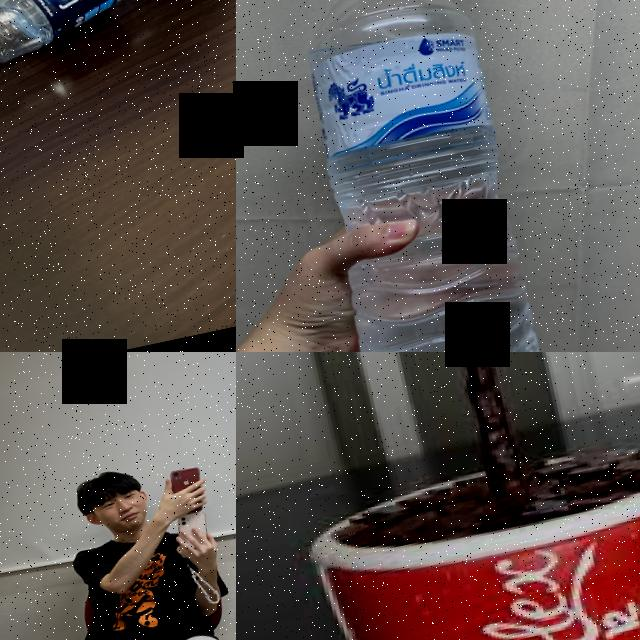bottle: (273, 0, 559, 352), (0, 0, 209, 127)
